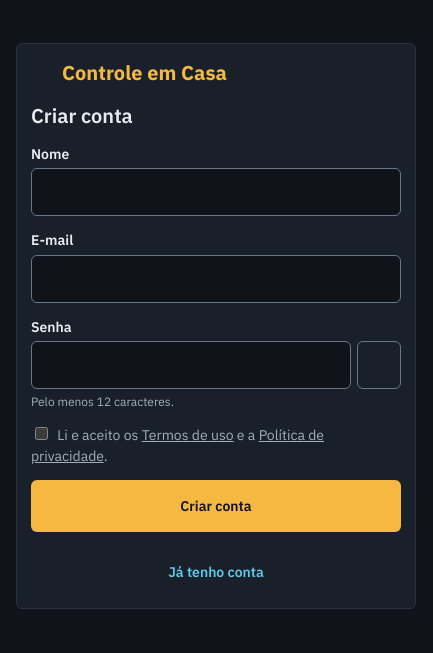
Cadastro (CA-19.1, CA-19.3, CA-19.4, CA-19.7) › sem rede: "Sem conexão." no topo e dados mantidos
The width and height of the screenshot is (433, 653).
In the field labelled "Nome": (216, 192) x1=31 y1=168 x2=401 y2=216, type "Ana Souza"
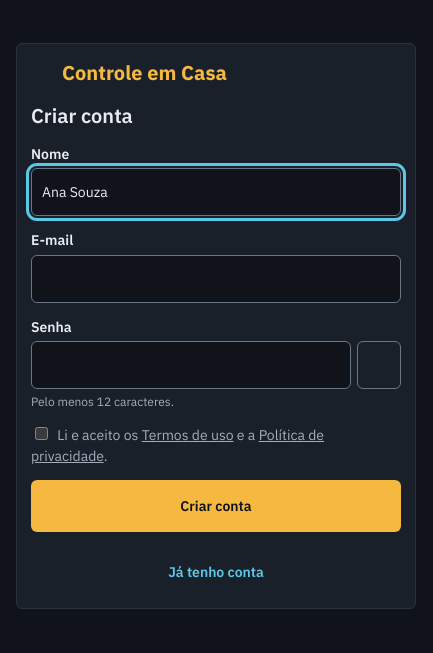
In the field labelled "E-mail": (216, 279) x1=31 y1=255 x2=401 y2=303, type "ana@exemplo.com"
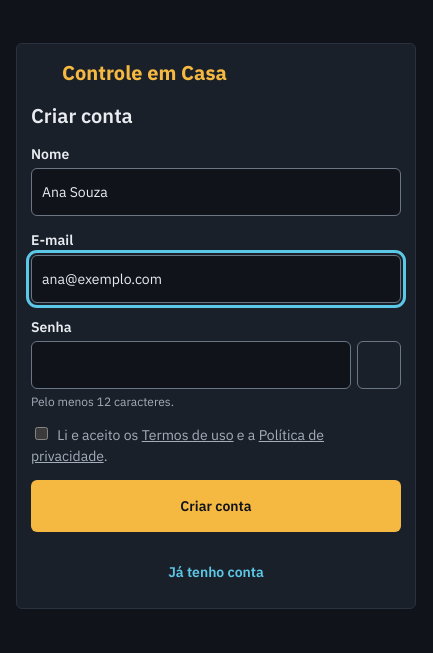
In the password field labelled "Senha": (191, 365) x1=31 y1=341 x2=351 y2=389, type "senha-bem-longa-1"
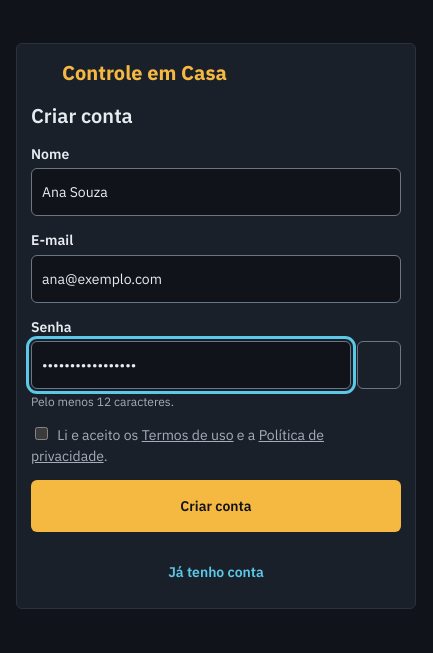
Click the checkbox: (42, 434) x1=35 y1=427 x2=48 y2=440
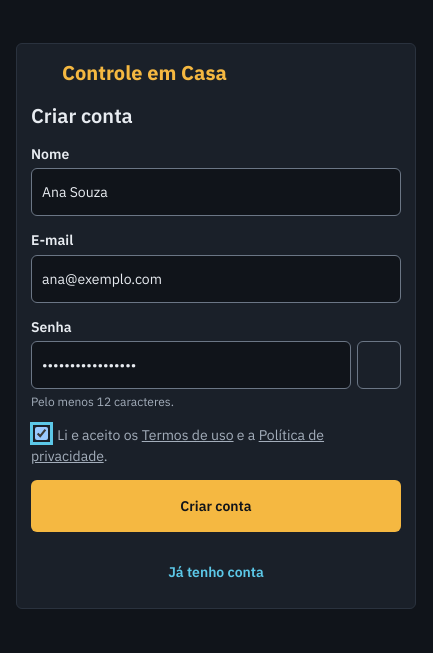
Click the button "Criar conta": (216, 506) x1=31 y1=480 x2=401 y2=532
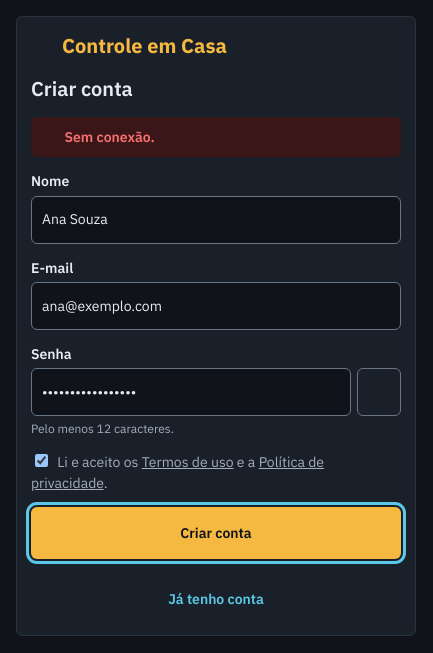
Result: the text "Sem conexão." is shown at x1=31 y1=117 x2=401 y2=157
